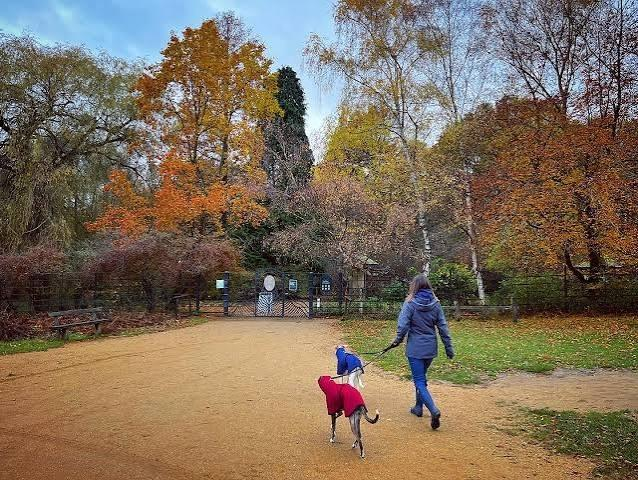adult_dog: (318, 374, 381, 459), (336, 345, 365, 389)
non-dog: (392, 273, 456, 430)
